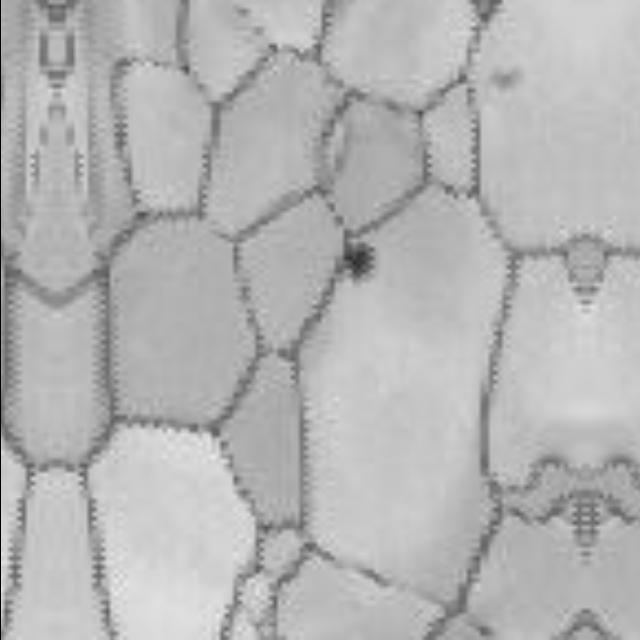good_void: (340, 236, 375, 287)
